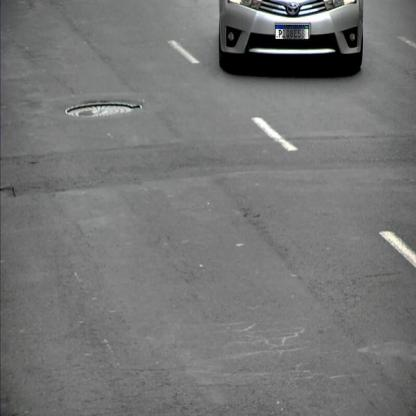PlacaM: (275, 25, 309, 39)
